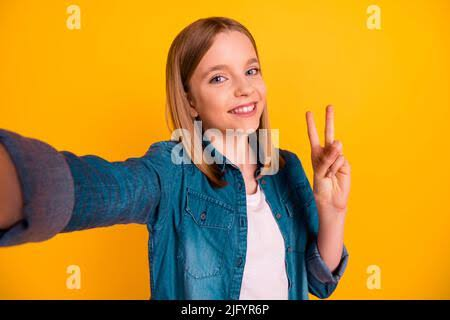peace_sign: (302, 104, 354, 211)
